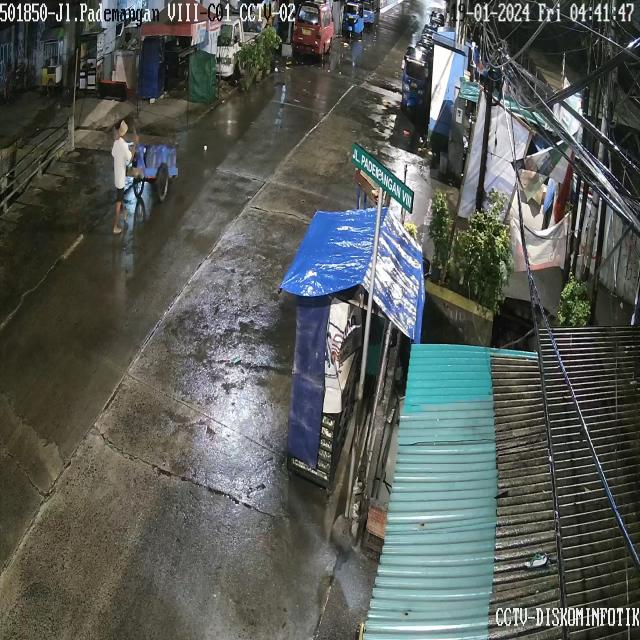Gerobak: (100, 96, 199, 242)
Terpal: (284, 212, 379, 295)
